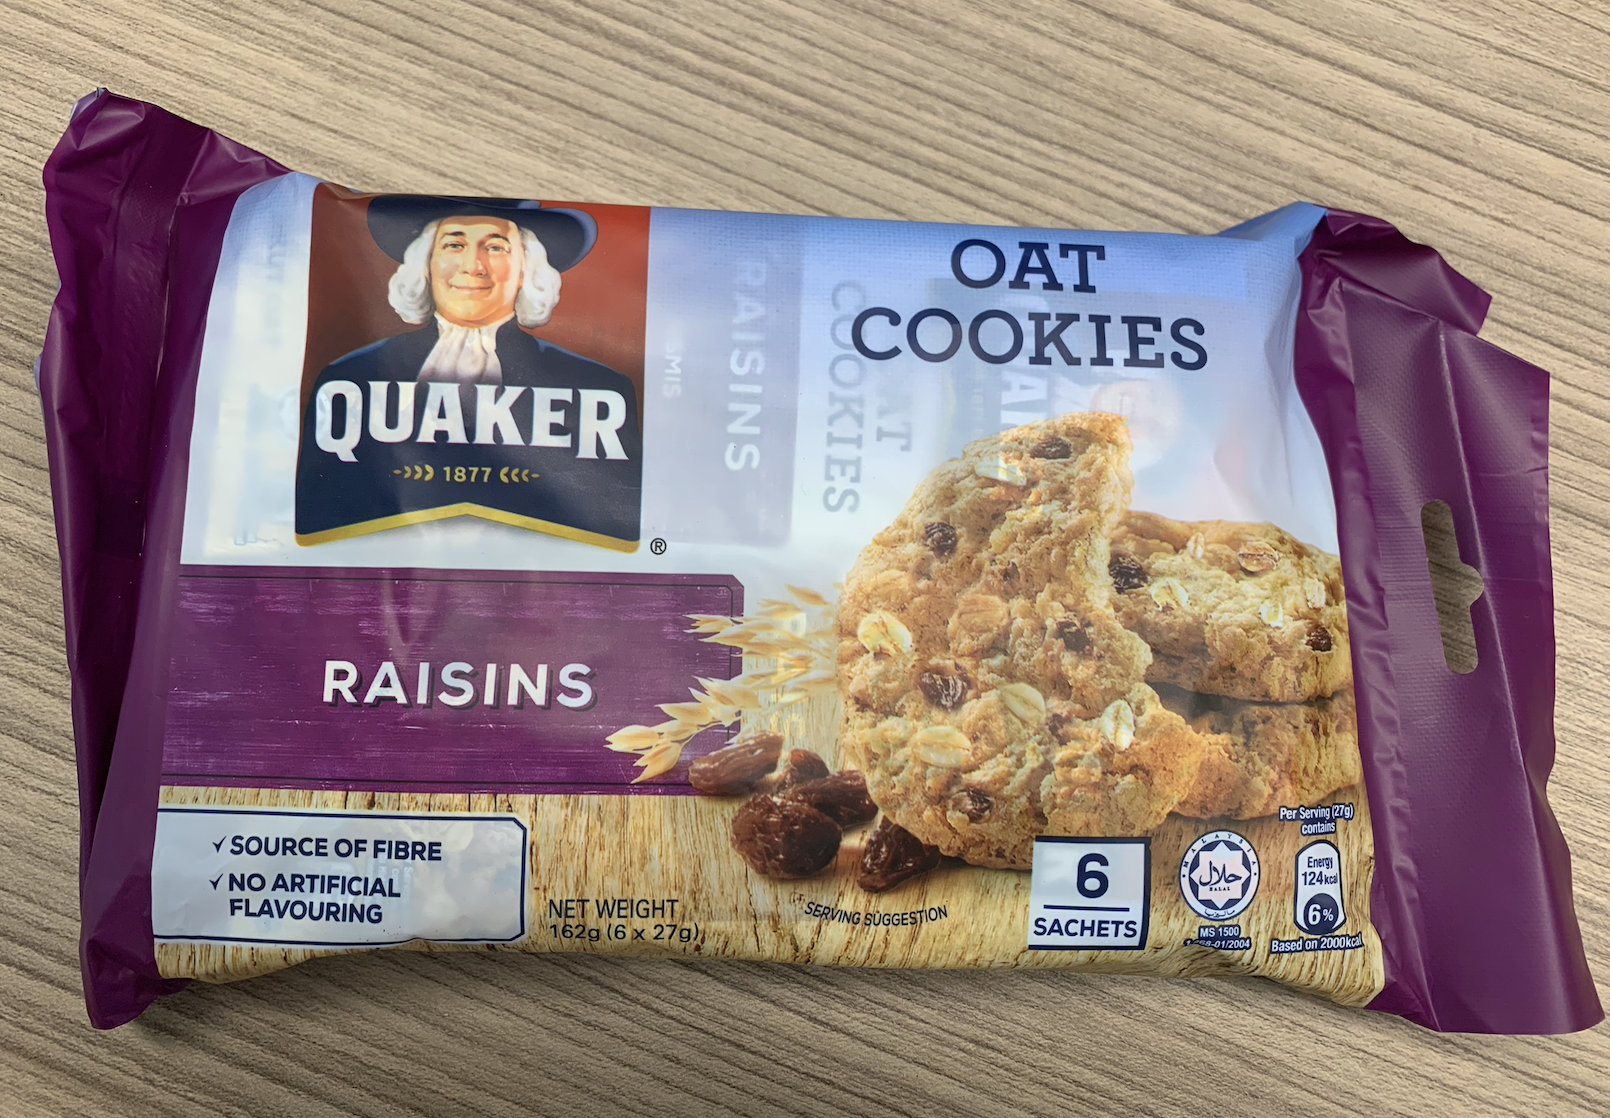cookies_100g-199g: (141, 231, 1382, 946)
